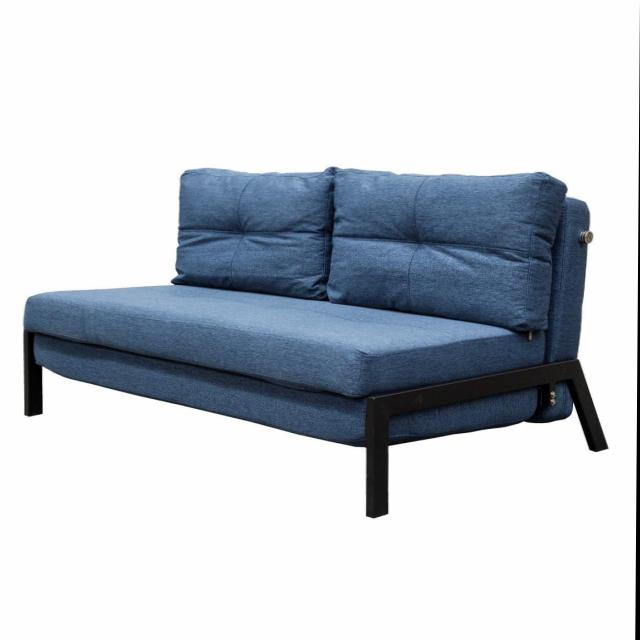Sofa: (18, 166, 612, 519)
